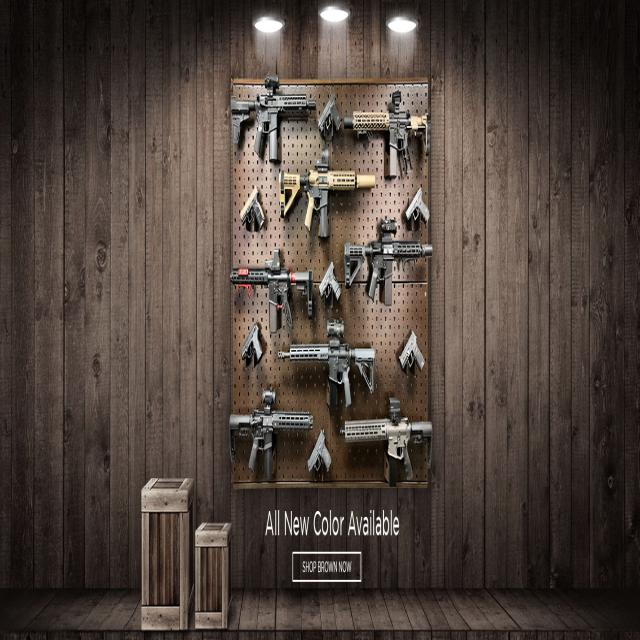HandGun: (308, 432, 331, 472), (240, 192, 264, 228), (319, 94, 340, 131), (401, 335, 424, 368), (406, 190, 429, 220), (242, 326, 262, 360), (320, 265, 340, 298)
Rifle: (278, 324, 375, 413), (279, 150, 376, 238), (345, 222, 433, 308), (344, 89, 429, 178), (230, 249, 313, 334), (231, 75, 308, 160), (344, 419, 434, 489), (229, 411, 314, 481)
